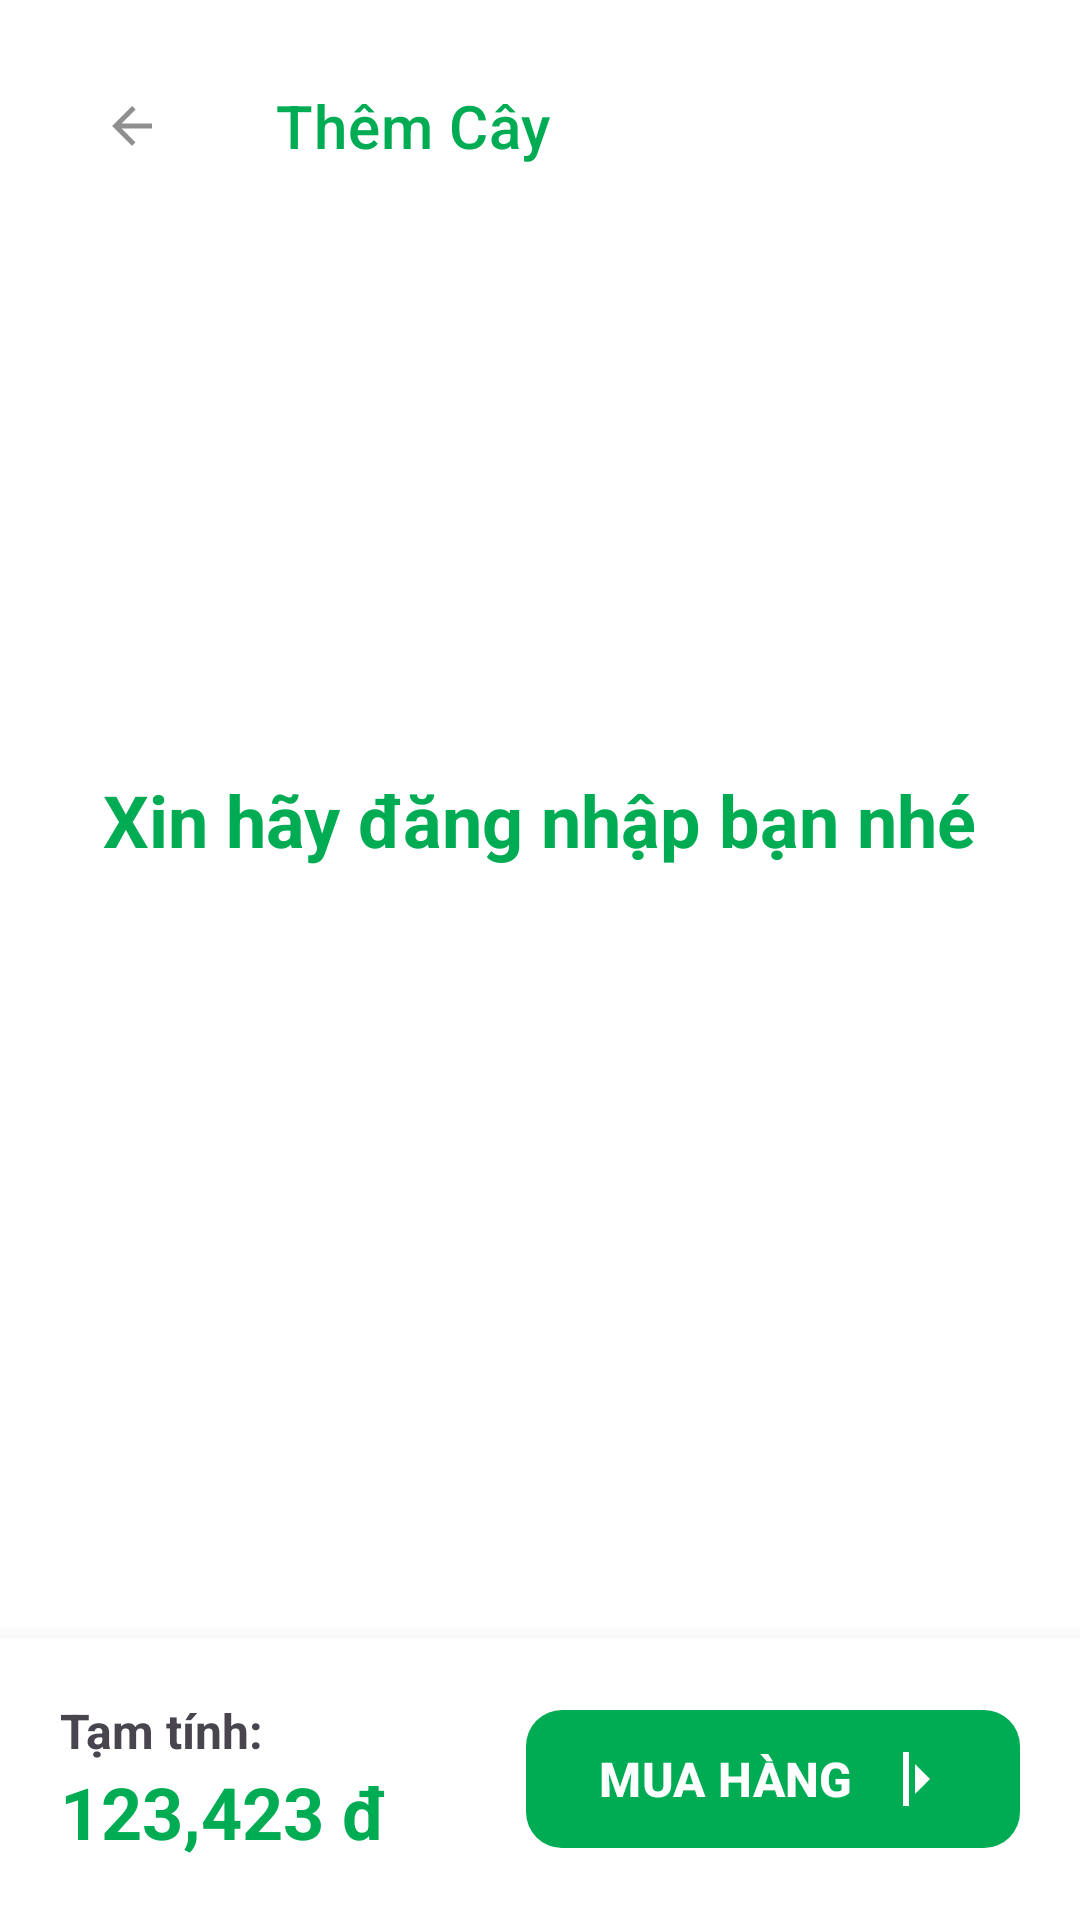

Point at icon controls on the screen. Image size 1080 × 1920, points as [x,y].
back arrow: [132,126]
